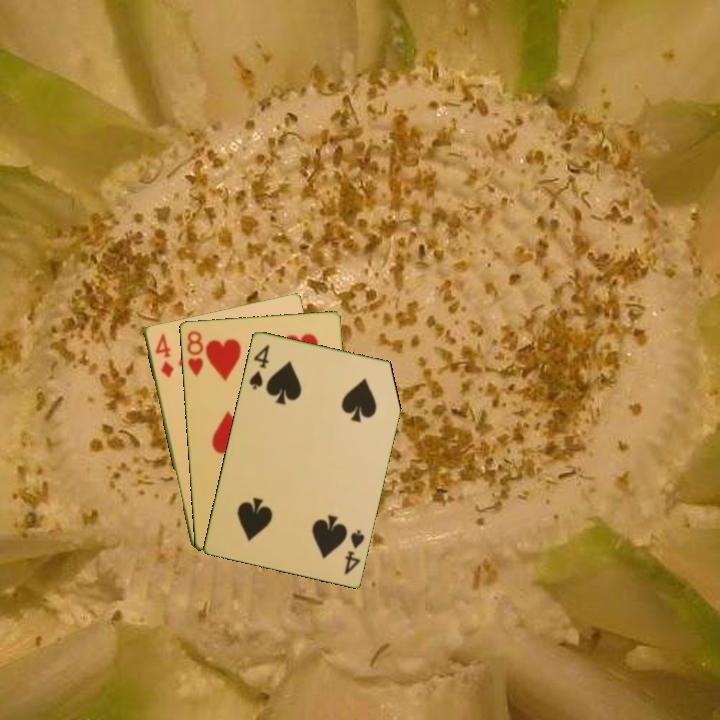4d: (151, 330, 176, 381)
4s: (245, 340, 272, 392), (340, 526, 367, 577)
8h: (183, 327, 206, 379)
